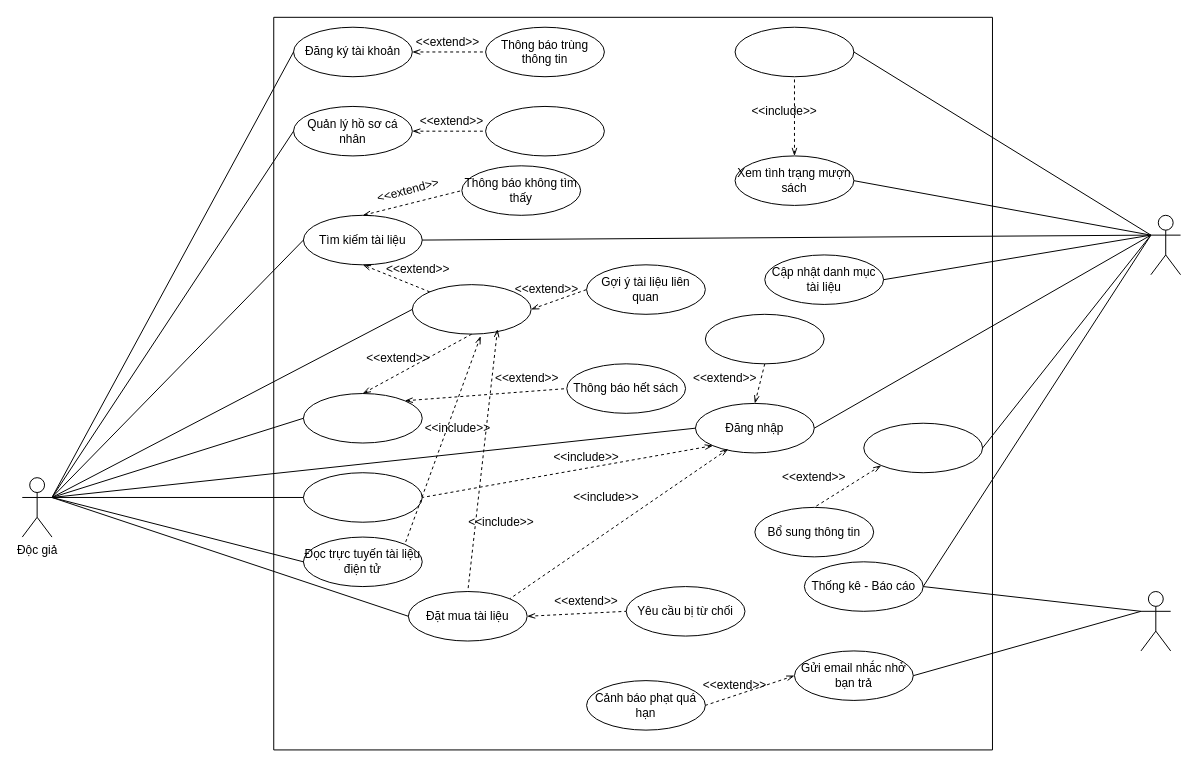
The diagram is 1204 pixels wide and 767 high, and some of its shapes have lost their labels. The shapes that lost their labels are listed below. From the top down, each one's centre as x and y in pixels, then its label:
At point (794, 51): "Quản lý mượn - Trả sách".
At point (544, 130): "Thay đổi thông tin cá nhân".
At point (1165, 244): "Thủ thư".
At point (471, 309): "Xem chi tiết tài liệu".
At point (764, 338): "Quên mật khẩu".
At point (362, 418): "Đăng ký mượn sách giấy".
At point (923, 447): "Duyệt yêu cầu đặt mua".
At point (362, 497): "Tải tài liệu điện tử".
At point (1155, 621): "Hệ thống".
